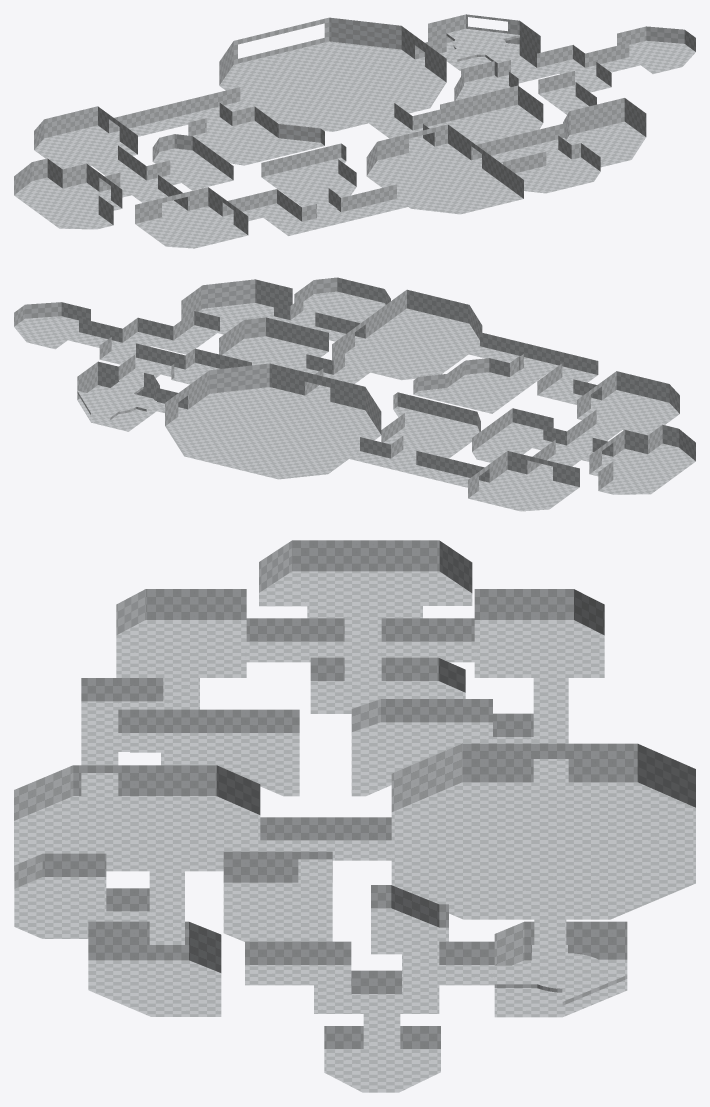
The model's file is skeld.glb.
3 views of the same model, one above another, from view 1: azimuth 30°, elevation 25°; view 2: azimuth 150°, elevation 25°; view 3: azimuth 270°, elevation 25° (orthographic). The views are drawn at different scales.
Parts seen in each view (by area): view 1: LevelGeometry; view 2: LevelGeometry; view 3: LevelGeometry.
Part boxes in pixels (box(x1,y1,x2,y2)): LevelGeometry: box(14, 14, 695, 248); LevelGeometry: box(14, 277, 695, 511); LevelGeometry: box(14, 540, 695, 1092).
Size of the model in its own units: 145 by 7 by 79.93.
1 material, 1 textured.
